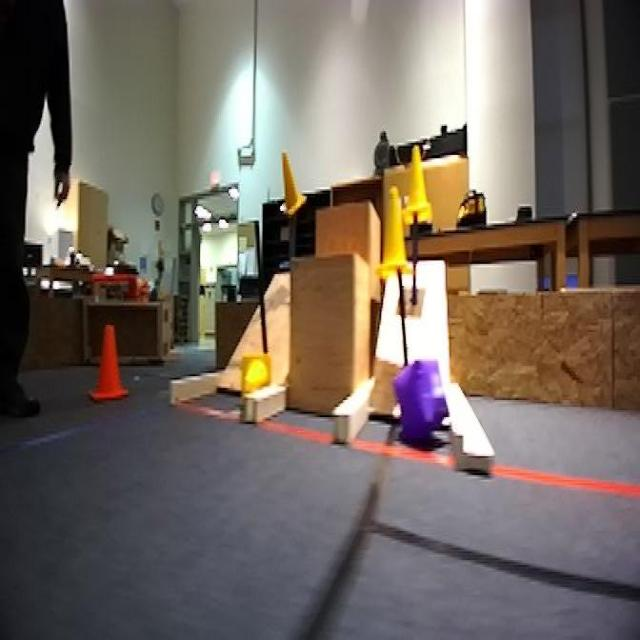frc_cone: (379, 184, 416, 277), (402, 146, 434, 223), (278, 150, 306, 218), (240, 351, 271, 410)
frc_cube: (388, 352, 446, 439)
